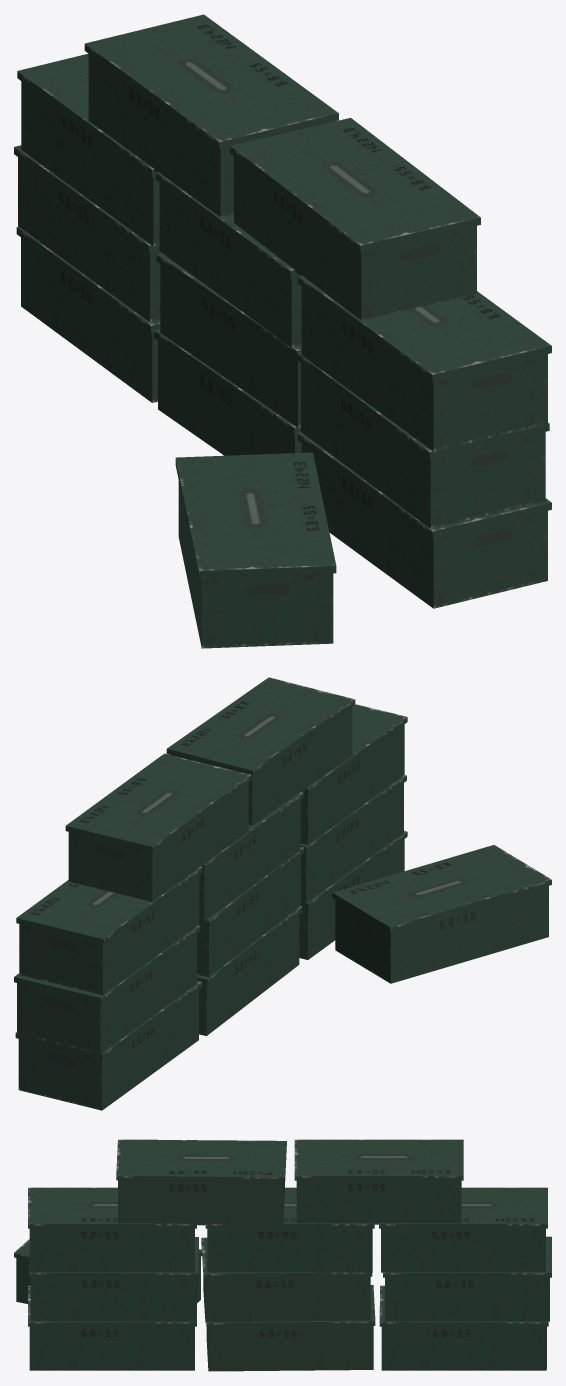
The model's file is boxes2.glb.
3 renders of one model, top to bottom at view 1: azimuth 30°, elevation 25°; view 2: azimuth 150°, elevation 25°; view 3: azimuth 270°, elevation 25°, orthographic. The views are drawn at different scales.
Visible parts, largest first — view 1: Box001; view 2: Box001; view 3: Box001.
Boxes of the visible parts, <box> form: Box001: <box>14,14,551,648</box>; Box001: <box>14,677,551,1110</box>; Box001: <box>14,1139,551,1371</box>.
Bounding box in the file's own units: 1.51 × 1.33 × 3.31.
Materials: 1 (1 with a texture image).
